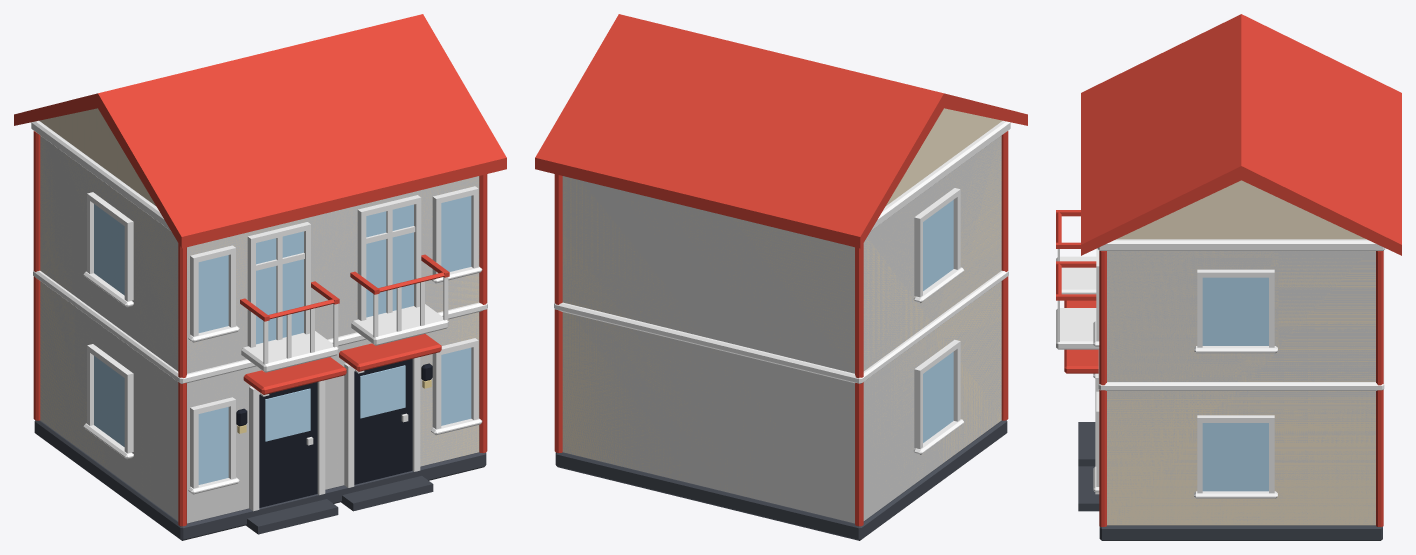
The model's file is house-flats.glb.
The picture shows the model from 3 angles, left to right: view 1: azimuth 30°, elevation 25°; view 2: azimuth 150°, elevation 25°; view 3: azimuth 270°, elevation 25°; orthographic projection. The views are drawn at different scales.
Parts seen in each view (by area): view 1: house, COL_body; view 2: house, COL_body; view 3: house, COL_body.
Part boxes in pixels (<box>): house: <box>14,14,506,540</box>; COL_body: <box>39,121,479,523</box>; house: <box>535,14,1027,540</box>; COL_body: <box>562,135,1001,523</box>; house: <box>1056,14,1401,540</box>; COL_body: <box>1107,239,1375,524</box>.
Size of the model in its own units: 6.5 by 7.59 by 6.25.
